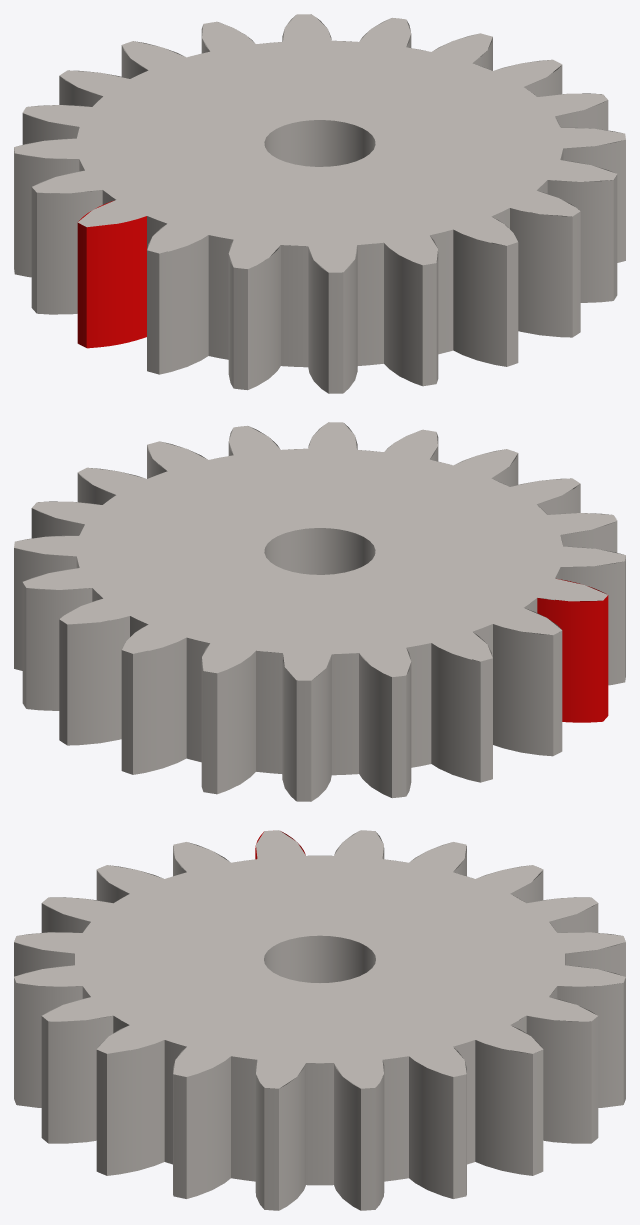
The model's file is gear2.obj.
The picture shows the model from 3 angles, top to bottom: view 1: azimuth 30°, elevation 25°; view 2: azimuth 150°, elevation 25°; view 3: azimuth 270°, elevation 25°; orthographic projection.
Visible parts, largest first — view 1: NONE_DC_Shell; view 2: NONE_DC_Shell; view 3: NONE_DC_Shell.
Part boxes in pixels (bbox=[...]): NONE_DC_Shell: bbox=[14, 14, 625, 393]; NONE_DC_Shell: bbox=[14, 422, 625, 801]; NONE_DC_Shell: bbox=[14, 830, 625, 1210].
Size of the model in its own units: 54.52 by 12 by 54.52.
